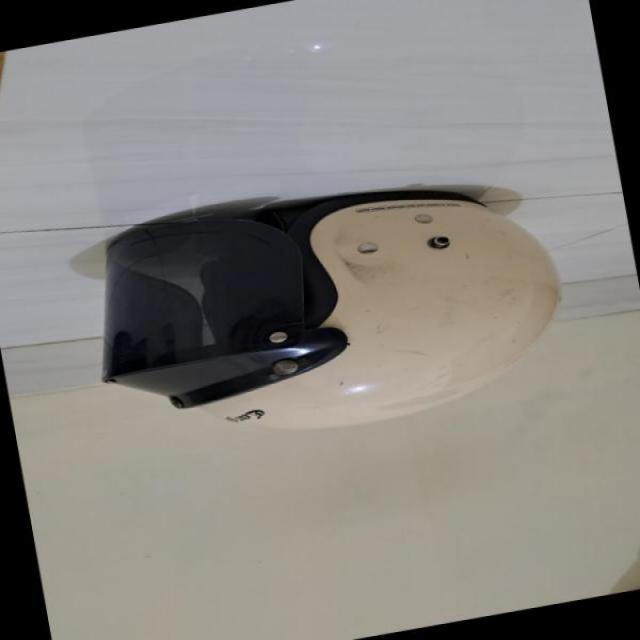Helmet: (83, 189, 563, 432)
